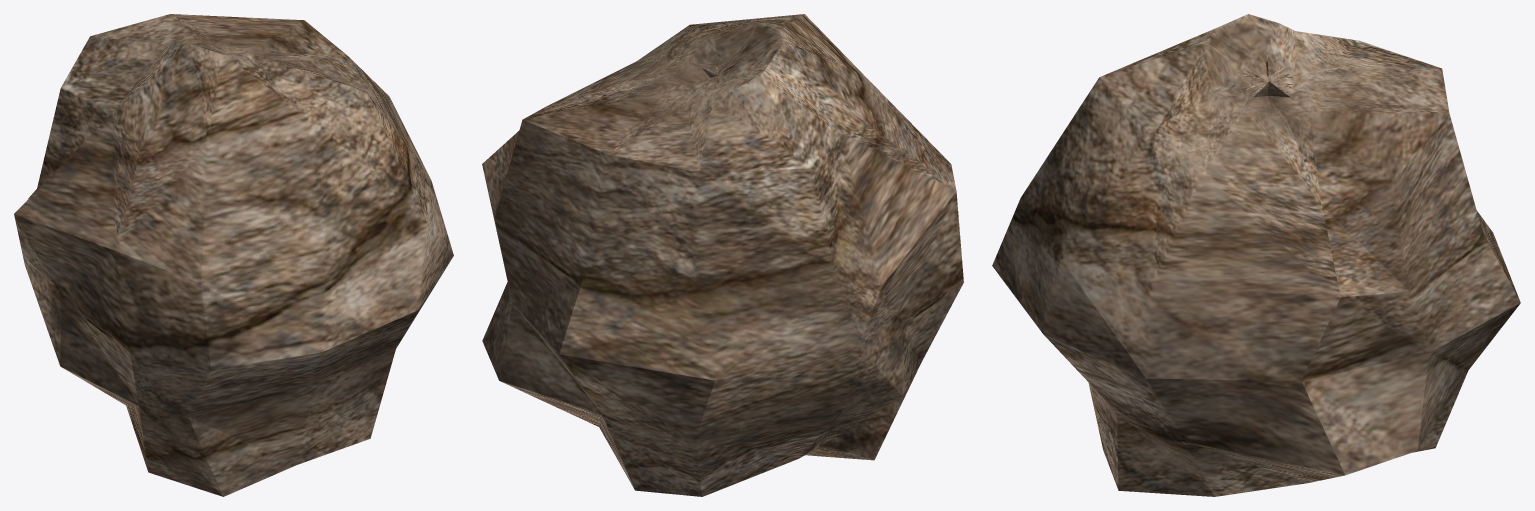
The model's file is RockSmallRound_LOD2.obj.
3 views of the same model, side by side, from view 1: azimuth 30°, elevation 25°; view 2: azimuth 150°, elevation 25°; view 3: azimuth 270°, elevation 25° (orthographic). The views are drawn at different scales.
Visible parts, largest first — view 1: RockSmallRound_LOD2; view 2: RockSmallRound_LOD2; view 3: RockSmallRound_LOD2.
Boxes of the visible parts, <box> form: RockSmallRound_LOD2: <box>14,14,453,496</box>; RockSmallRound_LOD2: <box>482,14,963,496</box>; RockSmallRound_LOD2: <box>992,14,1520,496</box>.
Size of the model in its own units: 1.24 by 1.26 by 1.38.
